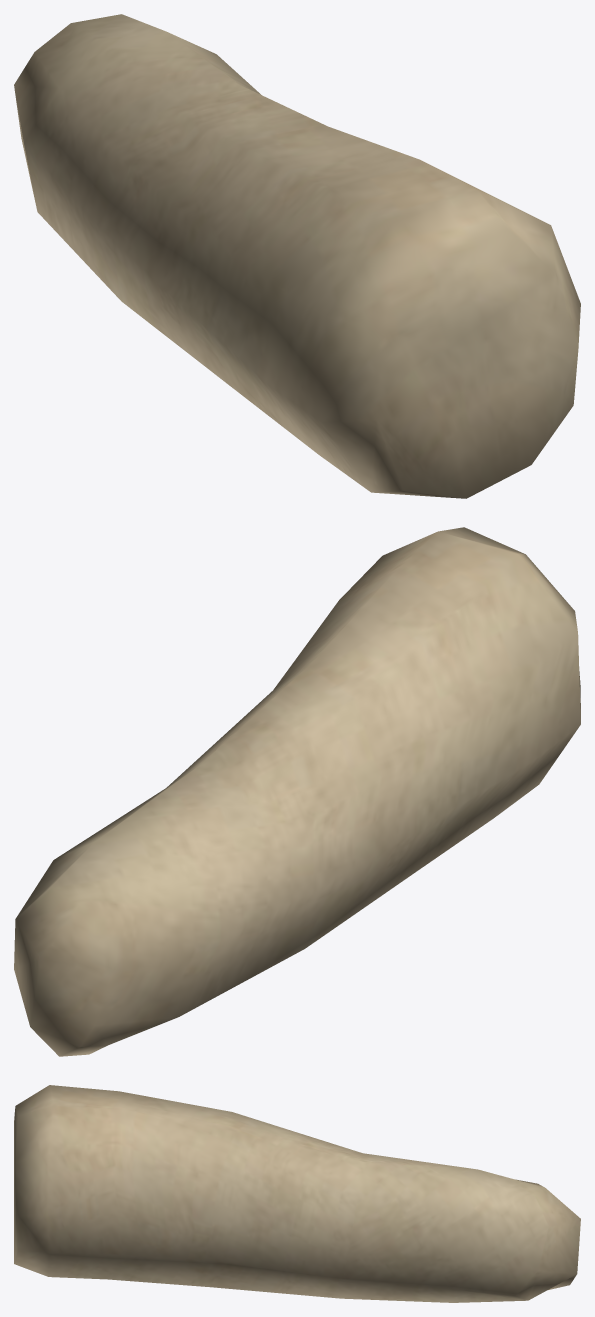
The model's file is Caudal_Vertebrae.glb.
3 views of the same model, one above another, from view 1: azimuth 30°, elevation 25°; view 2: azimuth 150°, elevation 25°; view 3: azimuth 270°, elevation 25° (orthographic). The views are drawn at different scales.
Parts seen in each view (by area): view 1: Caudal_Vertebrae_38:Group52327; view 2: Caudal_Vertebrae_38:Group52327; view 3: Caudal_Vertebrae_38:Group52327.
Part boxes in pixels (x1,y1,x2,y2): Caudal_Vertebrae_38:Group52327: (14, 14, 580, 498); Caudal_Vertebrae_38:Group52327: (14, 527, 580, 1056); Caudal_Vertebrae_38:Group52327: (14, 1085, 580, 1302).
Size of the model in its own units: 1.6 by 1.81 by 5.
Materials: 1 (1 with a texture image).
